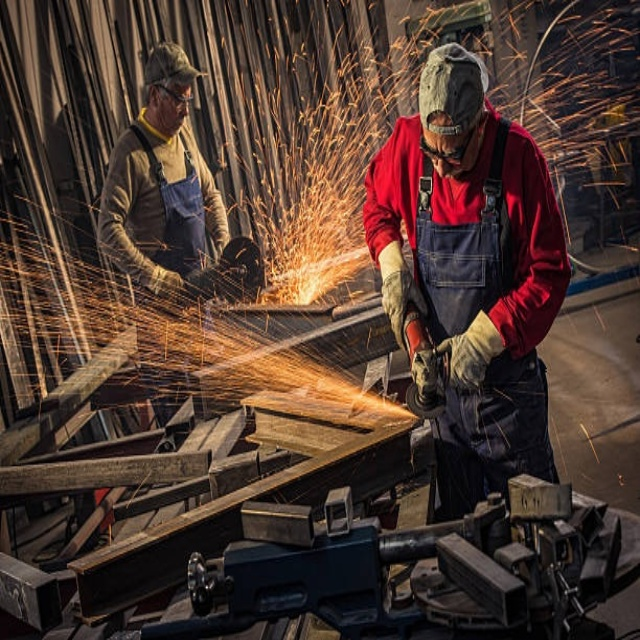Gafas: (419, 119, 478, 165), (155, 83, 194, 110)
Guantes: (374, 233, 427, 352), (445, 300, 510, 390), (136, 250, 186, 308)
